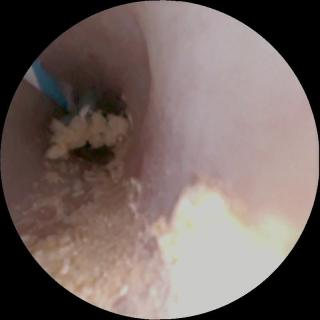stone: (47, 114, 130, 176)
tissue: (49, 5, 314, 230)
